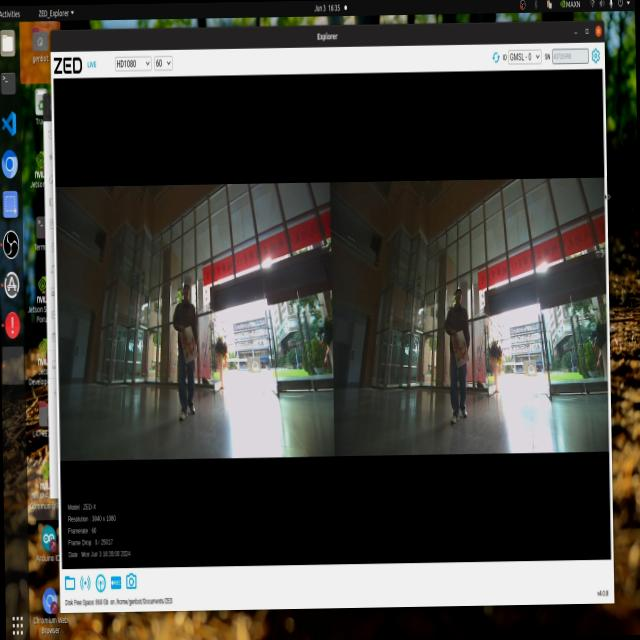red: (176, 326, 200, 360), (453, 327, 467, 359)
